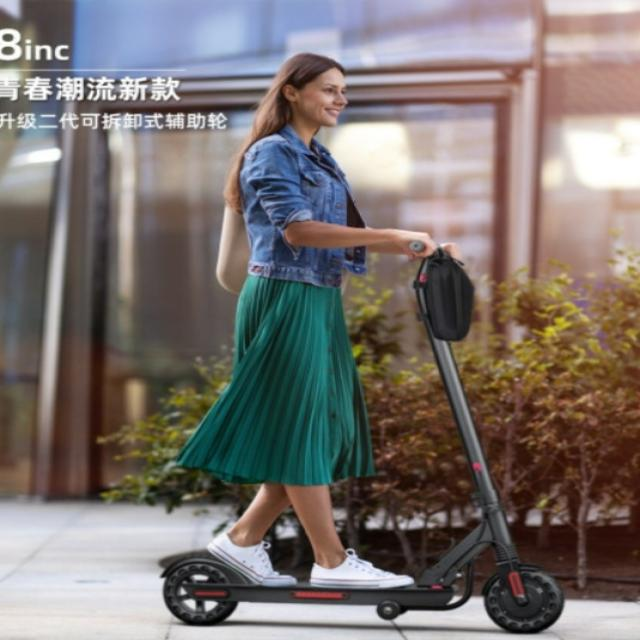non-helmet: (158, 46, 579, 632)
